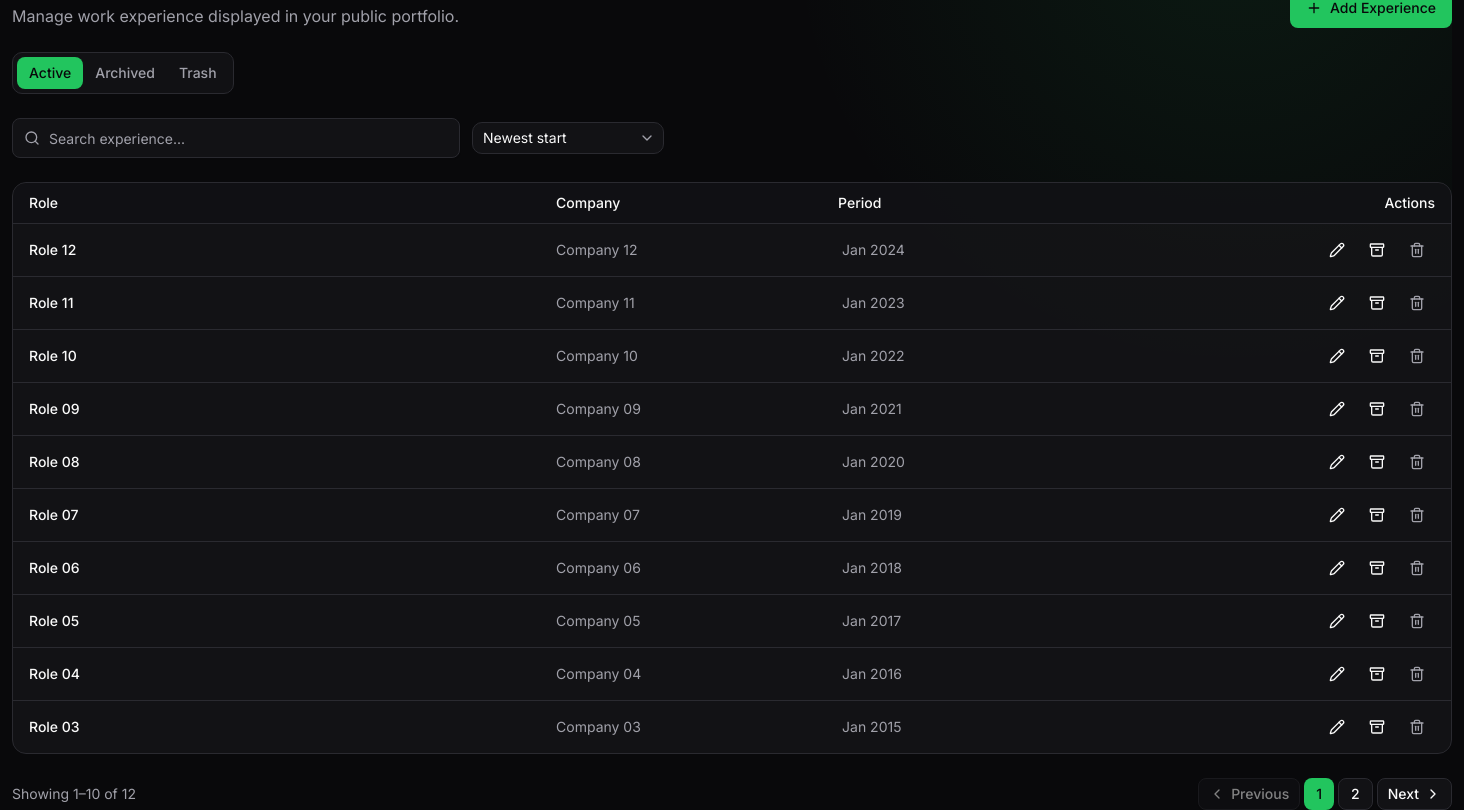
ExperienceView › paginates entries and moves to page 2
(page scrolled)
Expected: the text "Showing 1–10 of 12" is shown, [12, 784, 136, 804]
Expected: the text "Role 12" is shown, [13, 223, 548, 276]
Click the button named "Page 2" at (1355, 794), box [1338, 778, 1373, 809]
(page scrolled)
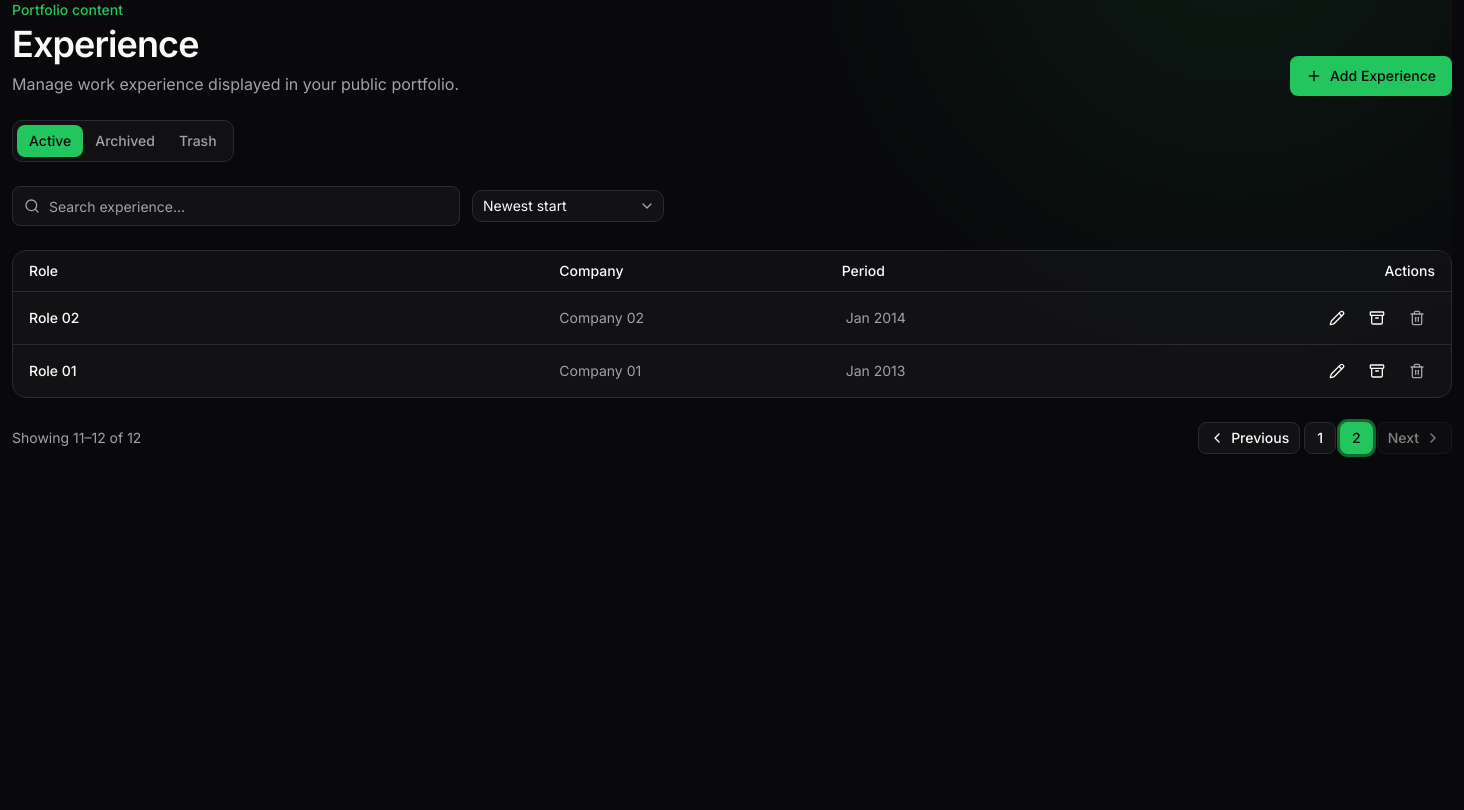
Now the text "Showing 11–12 of 12" is shown, box [12, 428, 141, 448]
Now the text "Role 01" is shown, box [13, 344, 551, 396]
